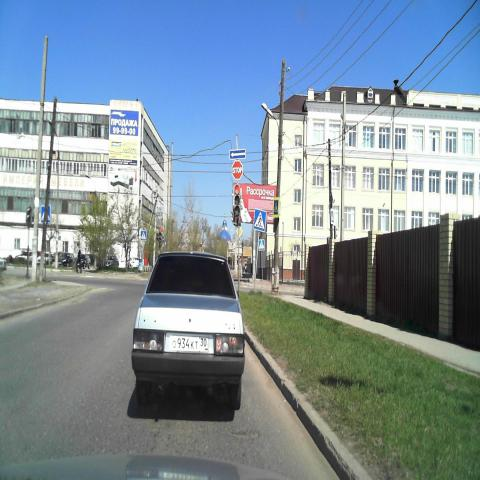5_7_2: (229, 149, 246, 159)
